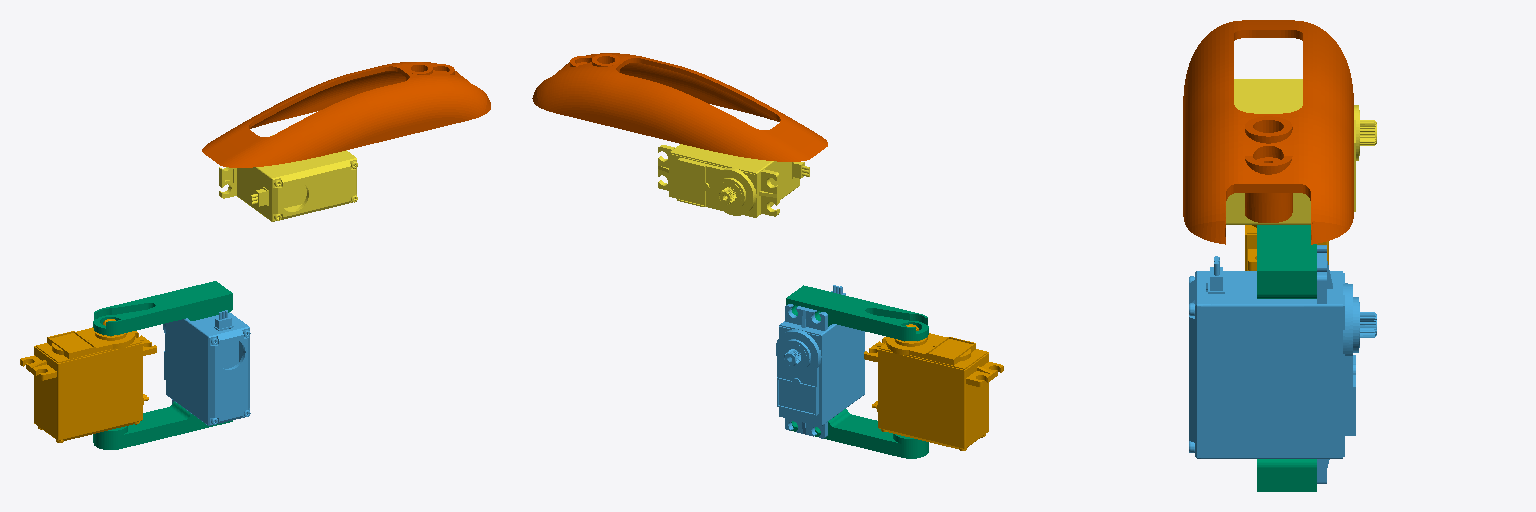
robot.urdf — right_leg:
<?xml version='1.0' encoding='utf-8'?>
<robot name="right_leg">
    <link name="base_link">
        <inertial>
            <origin xyz="0.020178447972789563 0.009750002219071822 -0.008216241413562224" rpy="0.0 0.0 0.0" />
            <mass value="0.20641808912389753" />
            <inertia ixx="2.7773631636875534e-05" iyy="5.0476740936021815e-05" izz="3.601102430698472e-05" ixy="3.0326974858794174e-12" iyz="-6.6531359313112565e-12" ixz="-7.930775065286786e-07" />
        </inertial>
        <visual name="base_link_visual">
            <origin xyz="0.0 0.0 0.0" rpy="0.0 0.0 0.0" />
            <geometry>
                <mesh filename="meshes/MG996.stl" scale="0.001 0.001 0.001" />
            </geometry>
        </visual>
        <collision name="base_link_collision">
            <origin xyz="0.0 0.0 0.0" rpy="0.0 0.0 0.0" />
            <geometry>
                <mesh filename="meshes/MG996.stl" scale="0.001 0.001 0.001" />
            </geometry>
        </collision>
    </link>
    <link name="MG996f">
        <inertial>
            <origin xyz="-0.024521552027210437 -0.008216241413562218 0.005249997780928162" rpy="0.0 -0.0 0.0" />
            <mass value="0.20641808912389753" />
            <inertia ixx="2.7773631636875433e-05" iyy="3.6011024306984666e-05" izz="5.047674093602177e-05" ixy="-7.930775065286955e-07" iyz="6.6531359143705976e-12" ixz="-3.0326975197607353e-12" />
        </inertial>
        <visual name="MG996f_visual">
            <origin xyz="-0.04470000000000001 6.661338147750939e-18 0.014999999999999982" rpy="-1.5707963267948968 -0.0 -3.749399456654644e-33" />
            <geometry>
                <mesh filename="meshes/MG996.stl" scale="0.001 0.001 0.001" />
            </geometry>
        </visual>
        <collision name="MG996f_collision">
            <origin xyz="-0.04470000000000001 6.661338147750939e-18 0.014999999999999982" rpy="-1.5707963267948968 -0.0 -3.749399456654644e-33" />
            <geometry>
                <mesh filename="meshes/MG996.stl" scale="0.001 0.001 0.001" />
            </geometry>
        </collision>
    </link>
    <link name="coxa">
        <inertial>
            <origin xyz="0.025372840494156005 -0.0001517412308491717 -0.02487963924889388" rpy="0.0 -0.0 0.0" />
            <mass value="0.07898637744159479" />
            <inertia ixx="4.963139741329647e-05" iyy="7.128210636066343e-05" izz="2.4265877776945353e-05" ixy="2.1127014631552984e-07" iyz="3.990735838610307e-08" ixz="-5.949787137622525e-06" />
        </inertial>
        <visual name="coxa_visual">
            <origin xyz="0.053000000000000005 -2.220446049250313e-18 0.001000000000000003" rpy="0.0 -0.0 1.5707963267948966" />
            <geometry>
                <mesh filename="meshes/right_coxa.stl" scale="0.001 0.001 0.001" />
            </geometry>
        </visual>
        <collision name="coxa_collision">
            <origin xyz="0.053000000000000005 -2.220446049250313e-18 0.001000000000000003" rpy="0.0 -0.0 1.5707963267948966" />
            <geometry>
                <mesh filename="meshes/right_coxa.stl" scale="0.001 0.001 0.001" />
            </geometry>
        </collision>
    </link>
    <link name="MG996t">
        <inertial>
            <origin xyz="0.010071550349059369 0.019266241413562223 2.6883626258467075e-09" rpy="0.0 -0.0 0.0" />
            <mass value="0.20641808912389753" />
            <inertia ixx="2.7773631636875758e-05" iyy="3.601102430698423e-05" izz="5.047674093602199e-05" ixy="-7.930775065286921e-07" iyz="-6.653135927923125e-12" ixz="3.032697573970844e-12" />
        </inertial>
        <visual name="MG996t_visual">
            <origin xyz="0.03024999832184893 0.01105 0.009750004907434447" rpy="-1.5707963267948966 -2.1632341619892146e-16 -3.141592653589793" />
            <geometry>
                <mesh filename="meshes/MG996.stl" scale="0.001 0.001 0.001" />
            </geometry>
        </visual>
        <collision name="MG996t_collision">
            <origin xyz="0.03024999832184893 0.01105 0.009750004907434447" rpy="-1.5707963267948966 -2.1632341619892146e-16 -3.141592653589793" />
            <geometry>
                <mesh filename="meshes/MG996.stl" scale="0.001 0.001 0.001" />
            </geometry>
        </collision>
    </link>
    <link name="tibia">
        <inertial>
            <origin xyz="0.04649343100105627 -0.010005948932875994 0.01322021406519859" rpy="0.0 -0.0 0.0" />
            <mass value="0.09285304614043148" />
            <inertia ixx="6.422753246891199e-06" iyy="0.00010153034858819722" izz="9.868903018824676e-05" ixy="2.6666870421129303e-06" iyz="9.576742803426926e-07" ixz="-8.30271171873133e-06" />
        </inertial>
        <visual name="tibia_visual">
            <origin xyz="0.0442999983218489 -0.007300000000000009 -0.0047500049074344465" rpy="1.5707963267948966 -1.5707963267948963 0" />
            <geometry>
                <mesh filename="meshes/right_tibia.stl" scale="0.001 0.001 0.001" />
            </geometry>
        </visual>
        <collision name="tibia_collision">
            <origin xyz="0.0442999983218489 -0.007300000000000009 -0.0047500049074344465" rpy="1.5707963267948966 -1.5707963267948963 0" />
            <geometry>
                <mesh filename="meshes/right_tibia.stl" scale="0.001 0.001 0.001" />
            </geometry>
        </collision>
    </link>
    <link name="shield">
        <inertial>
            <origin xyz="0.007956859434655437 3.2144871102146587e-07 0.03213715191944113" rpy="0.0 -0.0 0.0" />
            <mass value="0.09400422482344938" />
            <inertia ixx="0.00011235877990886396" iyy="9.902587291231446e-05" izz="1.7880722808844853e-05" ixy="4.0860511540719057e-10" iyz="1.6353321901664813e-10" ixz="3.853286382860411e-06" />
        </inertial>
        <visual name="shield_visual">
            <origin xyz="-4.907434423273571e-09 -0.01999999999999999 -0.018000000805759912" rpy="-3.141592653589793 -1.5707963267948961 0" />
            <geometry>
                <mesh filename="meshes/shield.stl" scale="0.001 0.001 0.001" />
            </geometry>
        </visual>
        <collision name="shield_collision">
            <origin xyz="-4.907434423273571e-09 -0.01999999999999999 -0.018000000805759912" rpy="-3.141592653589793 -1.5707963267948961 0" />
            <geometry>
                <mesh filename="meshes/shield.stl" scale="0.001 0.001 0.001" />
            </geometry>
        </collision>
    </link>
    <link name="femur">
        <inertial>
            <origin xyz="0.003124784594725227 -0.02288109973213504 0.045527607166960714" rpy="0.0 -0.0 0.0" />
            <mass value="0.2061355014221324" />
            <inertia ixx="0.00015591895758032944" iyy="8.656809797940234e-05" izz="0.000100988308472931" ixy="3.823774703431885e-06" iyz="-4.634784730535981e-06" ixz="-1.1513127818724243e-05" />
        </inertial>
        <visual name="femur_visual">
            <origin xyz="1.7763568394002505e-17 -0.04300000000000001 -2.7755575615628914e-19" rpy="1.5707963267948966 -0.6108652381980154 -6.123233995736765e-17" />
            <geometry>
                <mesh filename="meshes/right_femur.stl" scale="0.001 0.001 0.001" />
            </geometry>
        </visual>
        <collision name="femur_collision">
            <origin xyz="1.7763568394002505e-17 -0.04300000000000001 -2.7755575615628914e-19" rpy="1.5707963267948966 -0.6108652381980154 -6.123233995736765e-17" />
            <geometry>
                <mesh filename="meshes/right_femur.stl" scale="0.001 0.001 0.001" />
            </geometry>
        </collision>
    </link>
    <joint name="coxa_joint" type="revolute">
        <origin xyz="0.03025 0.00975 0.01005" rpy="0.0 -0.0 0.0" />
        <parent link="base_link" />
        <child link="coxa" />
        <axis xyz="0.0 0.0 1.0" />
        <limit lower="-1.570796" upper="1.570796" effort="1000000" velocity="1000000" />
    </joint>
    <joint name="coxa_MG996f_fixed" type="fixed">
        <origin xyz="0.048249999999999994 0.007000000000000001 0.0027500000000000016" rpy="-0.0 -1.5707963267948966 0" />
        <parent link="coxa" />
        <child link="MG996f" />
    </joint>
    <joint name="femur_joint" type="revolute">
        <origin xyz="-0.014450000000000001 0.010050000000000002 0.005249999999999995" rpy="-0.0 1.5707963267948966 0" />
        <parent link="MG996f" />
        <child link="femur" />
        <axis xyz="0.0 1.0 0.0" />
        <limit lower="-0.785398" upper="2.356194" effort="1000000" velocity="1000000" />
    </joint>
    <joint name="tibia_joint" type="revolute">
        <origin xyz="0.02958327999999999 0.0009999999999999966 0.06344155" rpy="-3.141592653589793 8.791013934755433e-33 0.0" />
        <parent link="femur" />
        <child link="MG996t" />
        <axis xyz="0.0 -1.0 0.0" />
        <limit lower="0" upper="1.570796" effort="1000000" velocity="1000000" />
    </joint>
    <joint name="MG996t_tibia_fixed" type="fixed">
        <origin xyz="-0.014449999999999985 0.011049999999999997 0.005249999999999995" rpy="3.141592653589793 8.791013934755431e-33 0.0" />
        <parent link="MG996t" />
        <child link="tibia" />
    </joint>
    <joint name="tibia_shield_fixed" type="fixed">
        <origin xyz="0.09324641 -0.0113 0.02125" rpy="-0.0 -1.5707963267948966 0" />
        <parent link="tibia" />
        <child link="shield" />
    </joint>
</robot>

--- What the picture shows (computed from the rendered views, not written in the file) ---
The picture shows the robot from 3 angles, left to right: view 1: azimuth 30°, elevation 25°; view 2: azimuth 150°, elevation 25°; view 3: azimuth 270°, elevation 25°; orthographic projection.
Robot: right_leg — 7 links, 6 joints (3 revolute, 3 fixed); root link base_link; default pose: all joints at 0.
Links seen in each view (by area): view 1: shield, base_link, MG996f, coxa, MG996t; view 2: shield, base_link, MG996f, MG996t, coxa; view 3: MG996f, shield, coxa, MG996t, base_link.
Link boxes in pixels (<box>): shield: <box>202,62,490,167</box>; base_link: <box>20,319,156,442</box>; MG996f: <box>163,310,250,425</box>; coxa: <box>93,281,232,449</box>; MG996t: <box>219,135,357,221</box>; shield: <box>532,53,827,161</box>; base_link: <box>864,324,1003,450</box>; MG996f: <box>776,285,864,438</box>; MG996t: <box>658,144,809,217</box>; coxa: <box>786,285,928,458</box>; MG996f: <box>1189,245,1376,483</box>; shield: <box>1183,20,1353,244</box>; coxa: <box>1257,225,1316,491</box>; MG996t: <box>1226,79,1376,224</box>; base_link: <box>1245,225,1328,270</box>.
Size in the robot's own frame: 0.206 by 0.0454 by 0.1358 metres.
5 mesh visuals loaded from 5 distinct referenced files (3 binary STL); not drawn: 2 (reference not matched to a file when rendering).